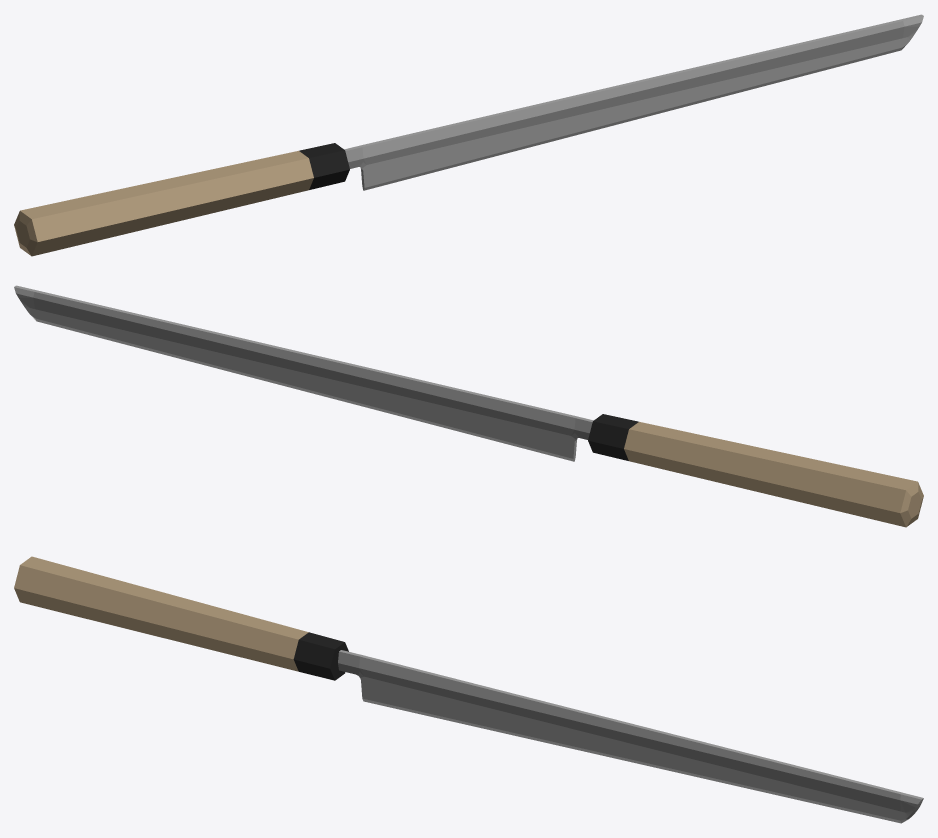
The model's file is Tuna Sword.fbx.
The picture shows the model from 3 angles, top to bottom: view 1: azimuth 30°, elevation 25°; view 2: azimuth 150°, elevation 25°; view 3: azimuth 330°, elevation 25°; orthographic projection.
Parts seen in each view (by area): view 1: Maguro Bocho; view 2: Maguro Bocho; view 3: Maguro Bocho.
Part boxes in pixels (x1,y1,x2,y2): Maguro Bocho: (14, 14, 923, 256); Maguro Bocho: (14, 285, 923, 527); Maguro Bocho: (14, 556, 923, 823).
Bounding box in the file's own units: 99.03 × 6.13 × 4.52.
